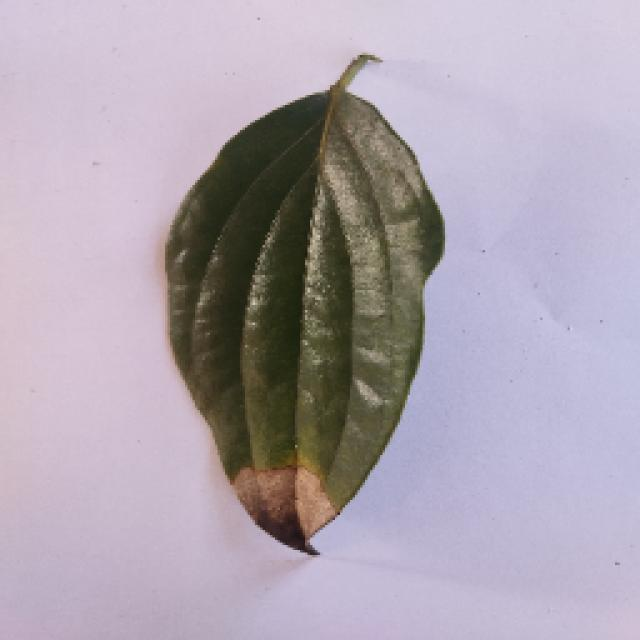footrot: (155, 58, 450, 550)
